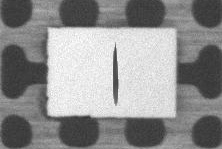DIE_INK: (167, 21, 177, 77)
